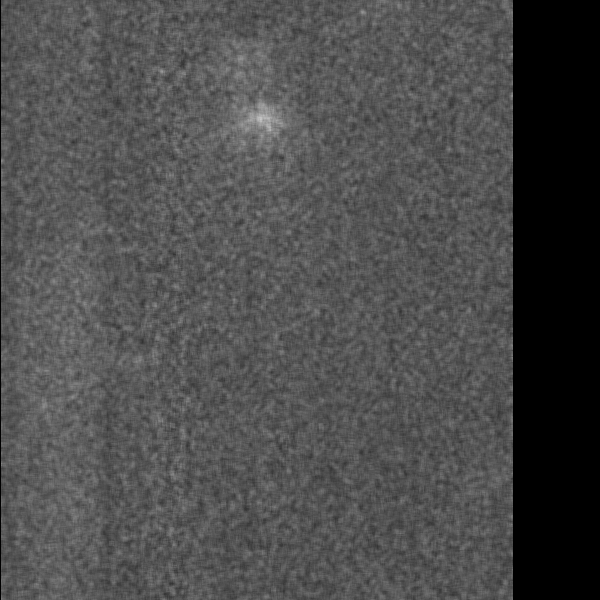spark: (233, 95, 291, 153)
